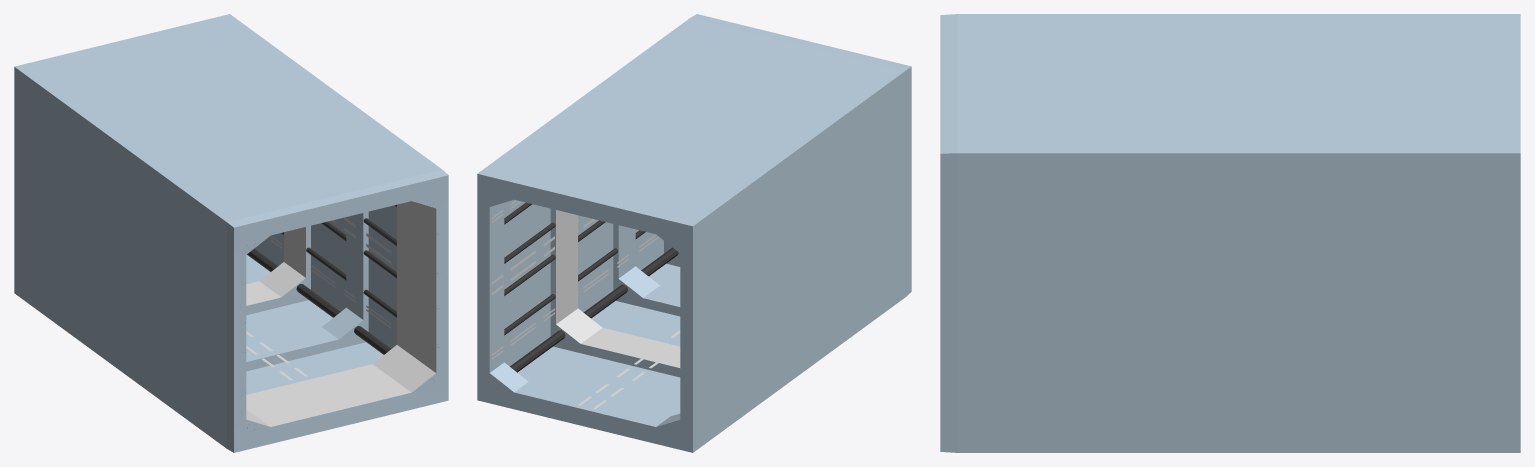
Rendered from Plat1.fbx.
3 renders of one model, left to right at view 1: azimuth 30°, elevation 25°; view 2: azimuth 150°, elevation 25°; view 3: azimuth 270°, elevation 25°, orthographic. The views are drawn at different scales.
Parts seen in each view (by area): view 1: plat1; view 2: plat1; view 3: plat1.
Part boxes in pixels (left/top/right/bottom): plat1: left=14, top=14, right=448, bottom=452; plat1: left=477, top=14, right=911, bottom=452; plat1: left=940, top=14, right=1520, bottom=452.
Size of the model in its own units: 17 by 29.94 by 17.07.
